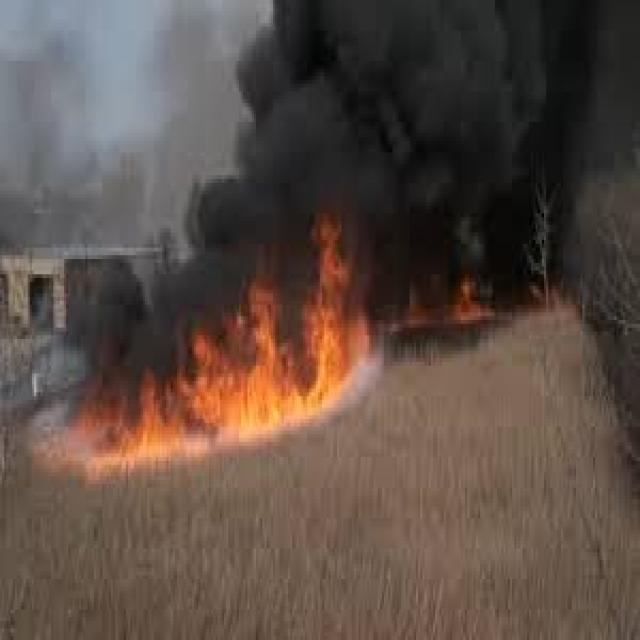Fire: (146, 344, 360, 442)
Smoke: (266, 1, 640, 235), (296, 242, 383, 342)
